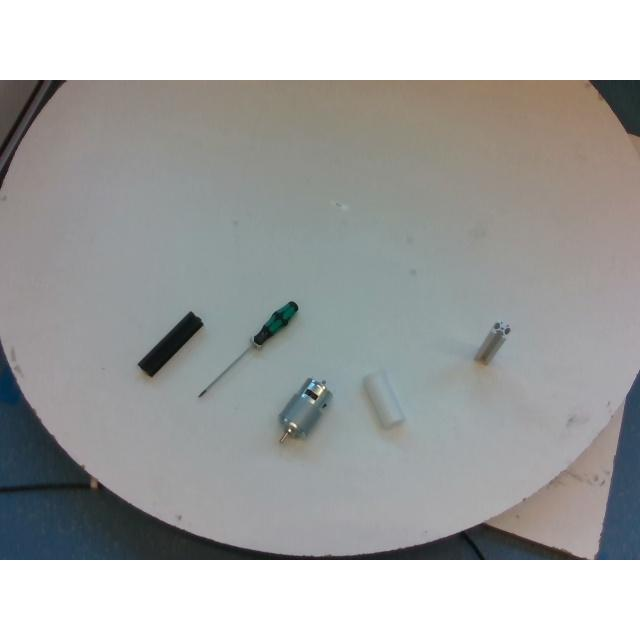F20_20_B: (138, 312, 202, 376)
F20_20_G: (474, 321, 510, 364)
Motor2: (280, 378, 332, 442)
Screwdriver: (198, 300, 298, 396)
Spacer: (363, 370, 405, 428)
